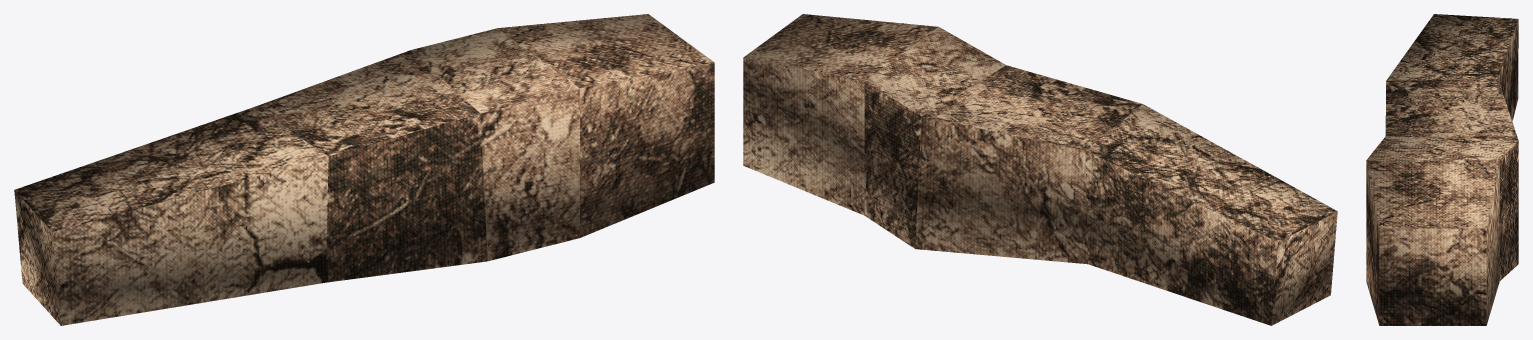
File: worm1.glb
3 renders of one model, left to right at view 1: azimuth 30°, elevation 25°; view 2: azimuth 150°, elevation 25°; view 3: azimuth 270°, elevation 25°, orthographic. The views are drawn at different scales.
Parts seen in each view (by area): view 1: Cube; view 2: Cube; view 3: Cube.
Boxes of the visible parts, bbox=[...] form: Cube: bbox=[14, 14, 714, 325]; Cube: bbox=[743, 14, 1337, 325]; Cube: bbox=[1366, 14, 1518, 325].
Bounding box in the file's own units: 2.24 × 0.5512 × 0.5813.
1 material, 1 textured.
